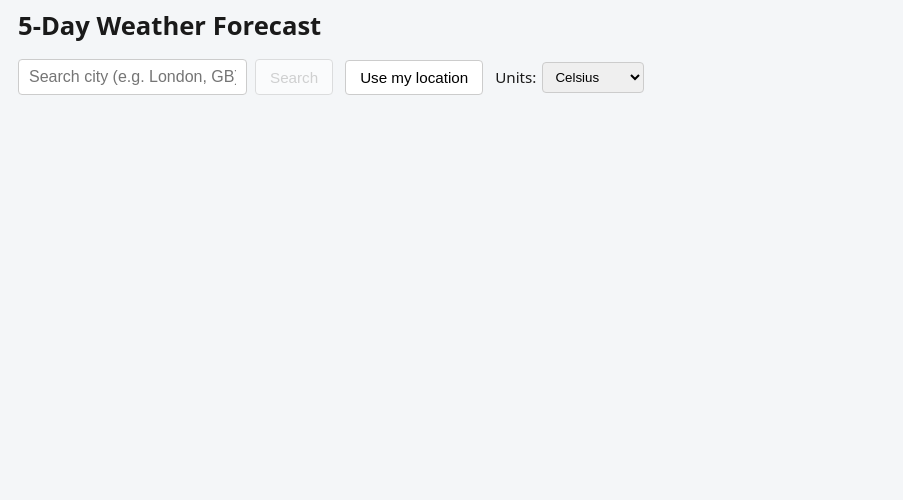
Test: App › searches for a city and displays the resulting forecast
Type "Paris" into the field named "city name" at coordinates (132, 77), box 18,59 -> 247,95
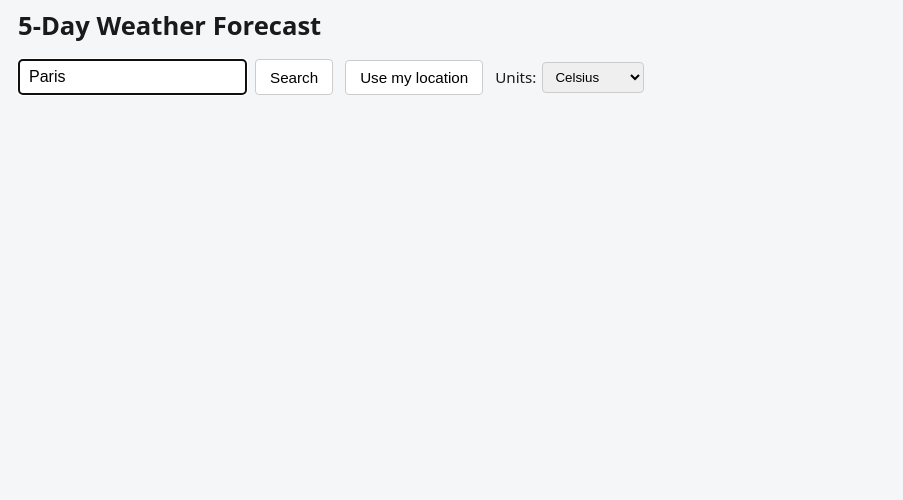
Click the button "Search" at coordinates (294, 77), box 255,59 -> 333,95
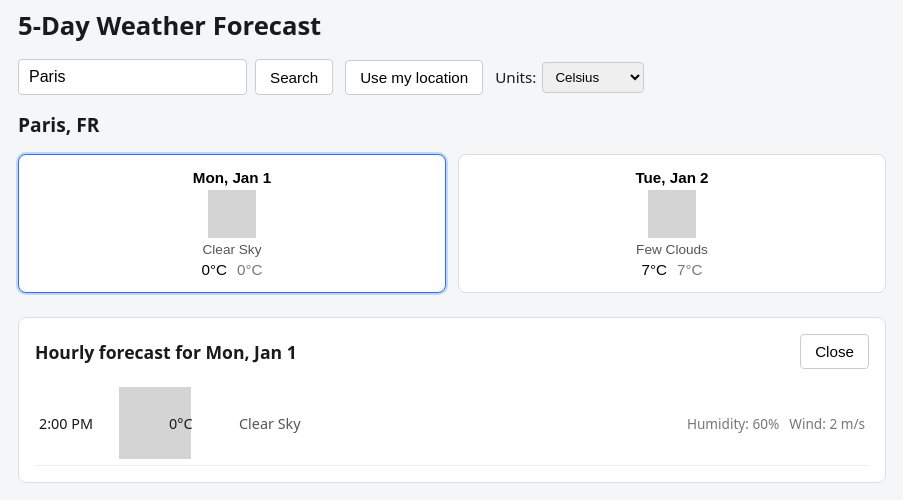
Expected: the heading "Paris, FR" is shown, 18,111 -> 99,138
